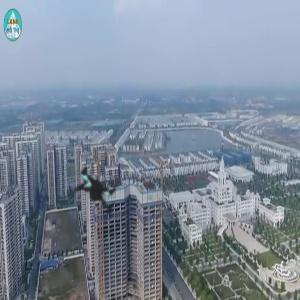drone: (45, 140, 149, 244)
